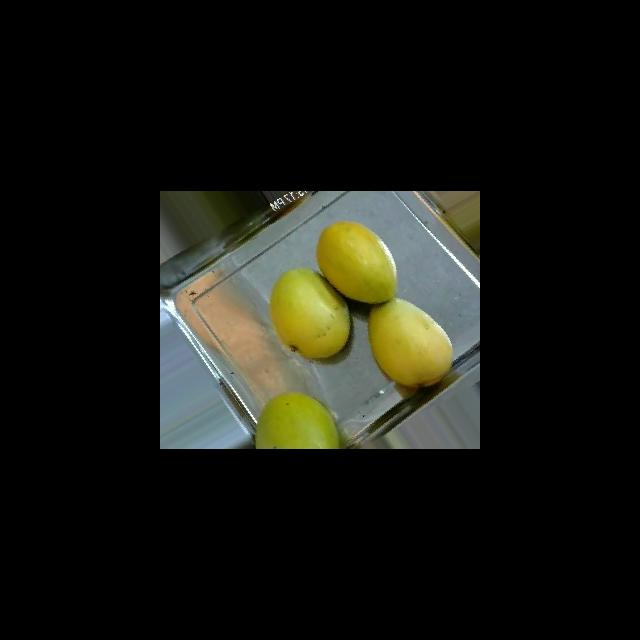mango: (367, 297, 453, 388), (269, 267, 351, 359), (315, 220, 397, 304), (254, 391, 341, 448)
